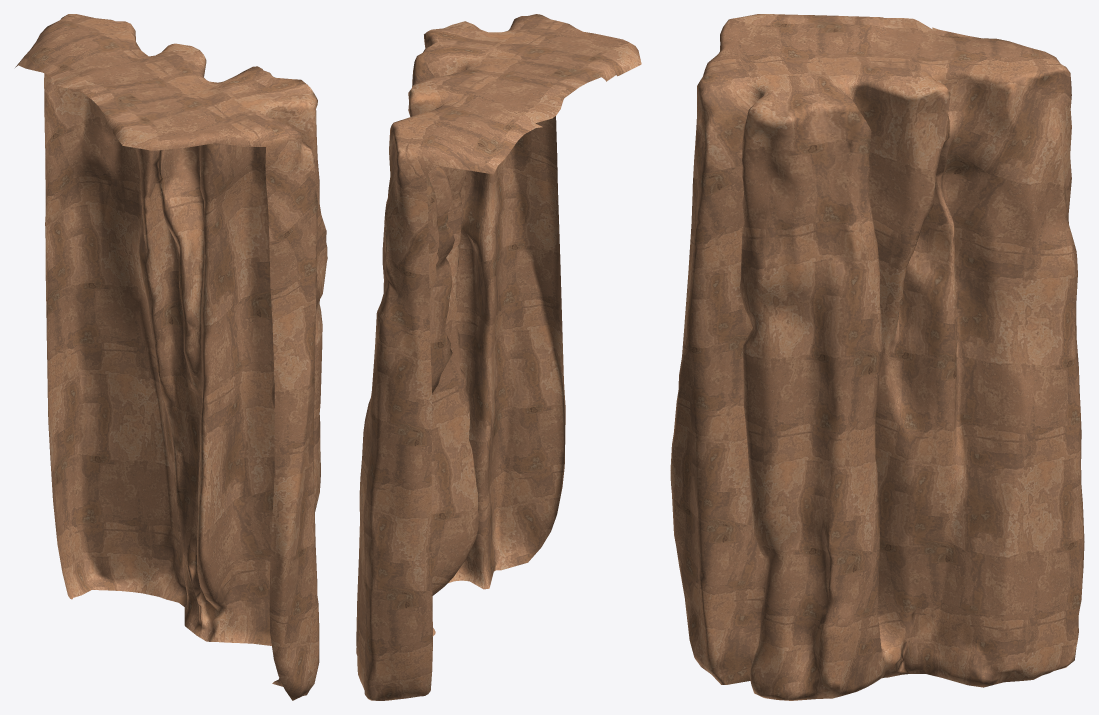
Rendered from Ob_RockCliff15.fbx.
3 views of the same model, side by side, from view 1: azimuth 30°, elevation 25°; view 2: azimuth 150°, elevation 25°; view 3: azimuth 270°, elevation 25° (orthographic). The views are drawn at different scales.
Parts seen in each view (by area): view 1: Ob_RockCliff15; view 2: Ob_RockCliff15; view 3: Ob_RockCliff15.
Boxes of the visible parts, x1,y1,x2,y2 form: Ob_RockCliff15: [15, 14, 327, 700]; Ob_RockCliff15: [356, 14, 641, 700]; Ob_RockCliff15: [670, 14, 1084, 700].
Bounding box in the file's own units: 25294 × 66259 × 41370.
